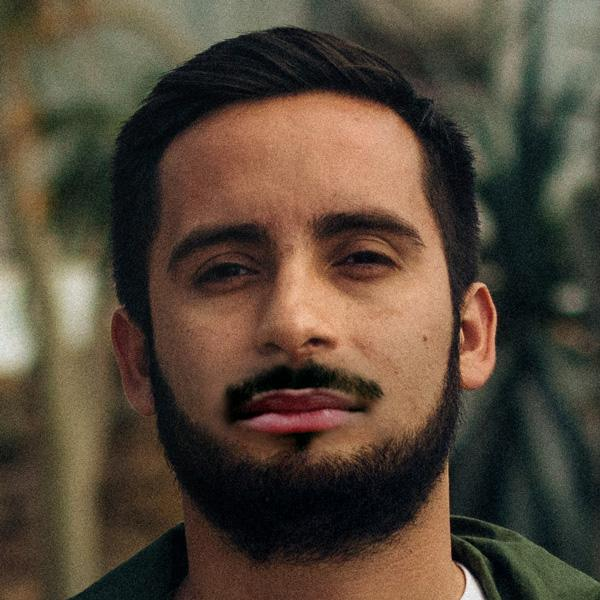Eyes: (187, 245, 273, 296), (322, 234, 408, 282)
